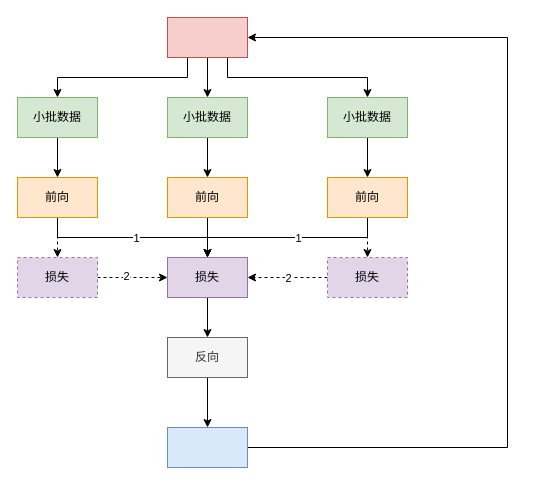
The diagram is 533 pixels wide and 485 high, and some of its shapes have lost their labels. The shapes that lost their labels are listed below. From the top down, each one's centre as x and y in pixels, then its label:
[207,37]: 读数据
[207,447]: 梯度更新
